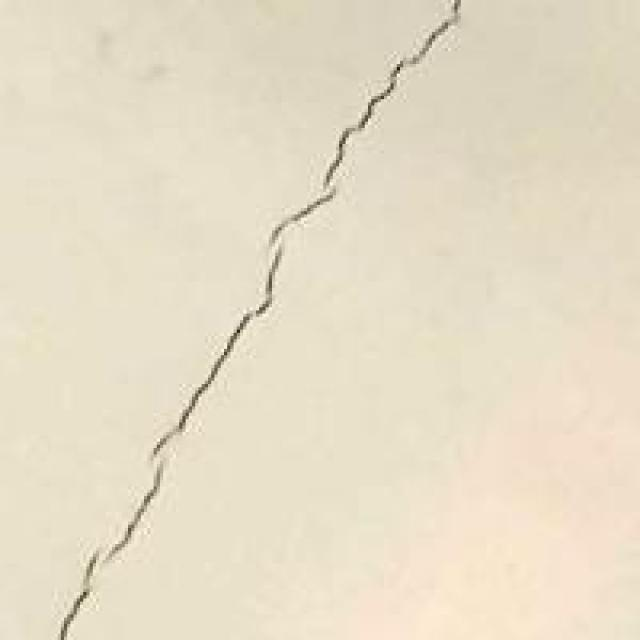crack: (38, 0, 470, 637)
